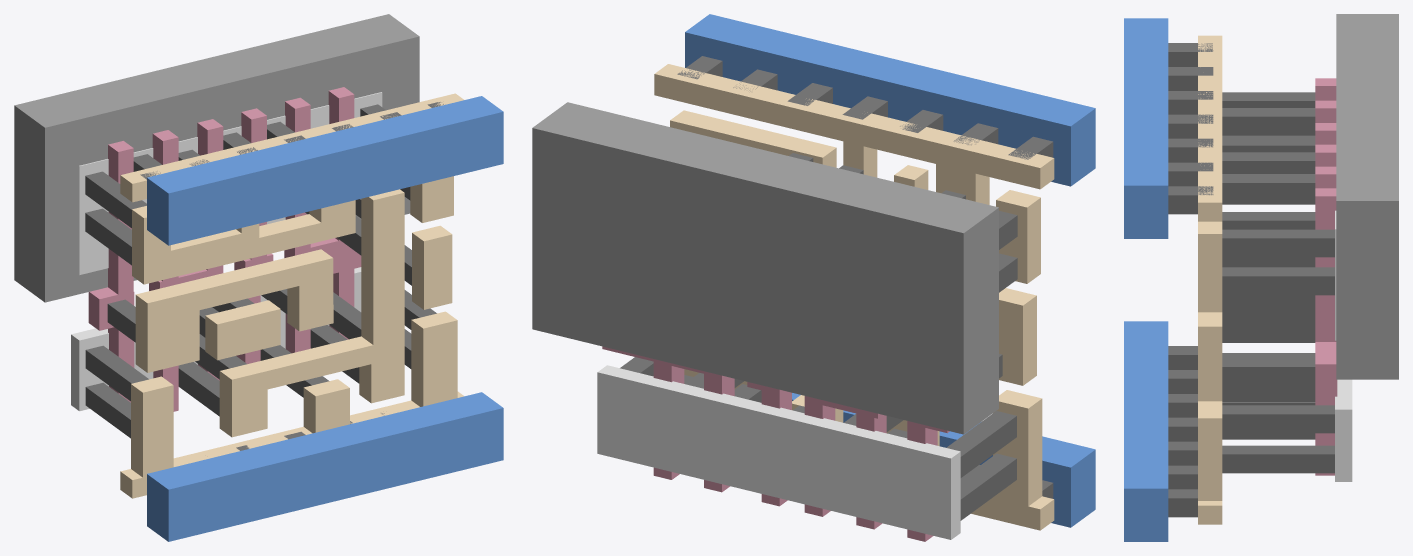
Rendered from sky130_fd_sc_hd__a21oi_2.gds.gltf.
3 views of the same model, side by side, from view 1: azimuth 30°, elevation 25°; view 2: azimuth 150°, elevation 25°; view 3: azimuth 270°, elevation 25° (orthographic). The views are drawn at different scales.
Parts seen in each view (by area): view 1: sky130_fd_sc_hd__a21oi_2_li1, sky130_fd_sc_hd__a21oi_2_met1, sky130_fd_sc_hd__a21oi_2_nwell, sky130_fd_sc_hd__a21oi_2_licon, sky130_fd_sc_hd__a21oi_2_poly, sky130_fd_sc_hd__a21oi_2_diff, sky130_fd_sc_hd__a21oi_2_mcon; view 2: sky130_fd_sc_hd__a21oi_2_nwell, sky130_fd_sc_hd__a21oi_2_diff, sky130_fd_sc_hd__a21oi_2_li1, sky130_fd_sc_hd__a21oi_2_met1, sky130_fd_sc_hd__a21oi_2_licon, sky130_fd_sc_hd__a21oi_2_poly, sky130_fd_sc_hd__a21oi_2_mcon; view 3: sky130_fd_sc_hd__a21oi_2_licon, sky130_fd_sc_hd__a21oi_2_nwell, sky130_fd_sc_hd__a21oi_2_met1, sky130_fd_sc_hd__a21oi_2_li1, sky130_fd_sc_hd__a21oi_2_mcon, sky130_fd_sc_hd__a21oi_2_poly, sky130_fd_sc_hd__a21oi_2_diff.
Boxes of the visible parts, x1,y1,x2,y2 form: sky130_fd_sc_hd__a21oi_2_li1: (120, 93, 463, 498); sky130_fd_sc_hd__a21oi_2_met1: (147, 96, 503, 541); sky130_fd_sc_hd__a21oi_2_nwell: (14, 14, 419, 302); sky130_fd_sc_hd__a21oi_2_licon: (85, 104, 436, 438); sky130_fd_sc_hd__a21oi_2_poly: (88, 87, 361, 411); sky130_fd_sc_hd__a21oi_2_diff: (71, 92, 382, 411); sky130_fd_sc_hd__a21oi_2_mcon: (140, 102, 443, 450); sky130_fd_sc_hd__a21oi_2_nwell: (532, 102, 998, 434); sky130_fd_sc_hd__a21oi_2_diff: (597, 365, 960, 539); sky130_fd_sc_hd__a21oi_2_li1: (654, 64, 1054, 530); sky130_fd_sc_hd__a21oi_2_met1: (685, 14, 1095, 527); sky130_fd_sc_hd__a21oi_2_licon: (620, 153, 1017, 520); sky130_fd_sc_hd__a21oi_2_poly: (602, 346, 949, 541); sky130_fd_sc_hd__a21oi_2_mcon: (677, 56, 1053, 498); sky130_fd_sc_hd__a21oi_2_licon: (1222, 92, 1334, 473); sky130_fd_sc_hd__a21oi_2_nwell: (1336, 14, 1398, 379); sky130_fd_sc_hd__a21oi_2_met1: (1124, 18, 1168, 541); sky130_fd_sc_hd__a21oi_2_li1: (1198, 35, 1222, 524); sky130_fd_sc_hd__a21oi_2_mcon: (1168, 43, 1213, 517); sky130_fd_sc_hd__a21oi_2_poly: (1315, 78, 1337, 475); sky130_fd_sc_hd__a21oi_2_diff: (1335, 210, 1352, 481).
Bounding box in the file's own units: 3.6 × 3.2 × 2.24.
